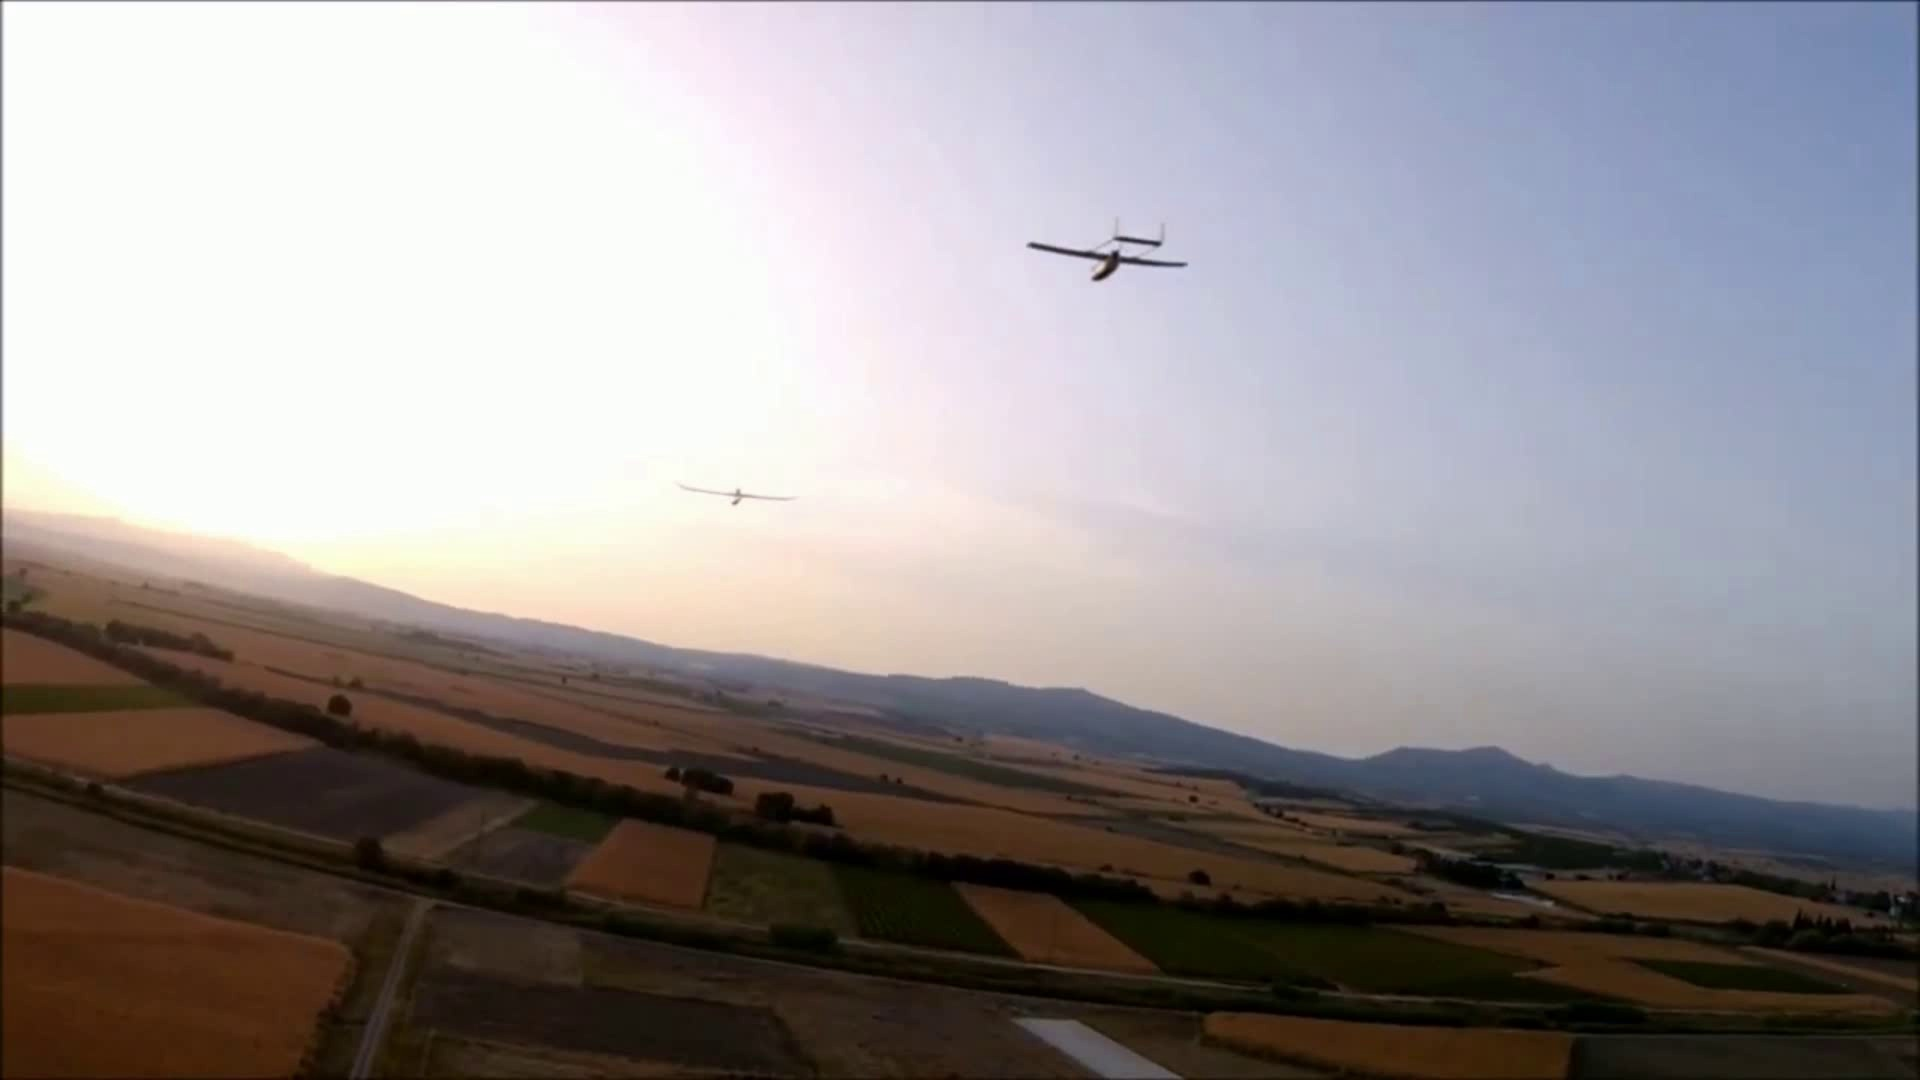airplane: (1025, 219, 1189, 281)
